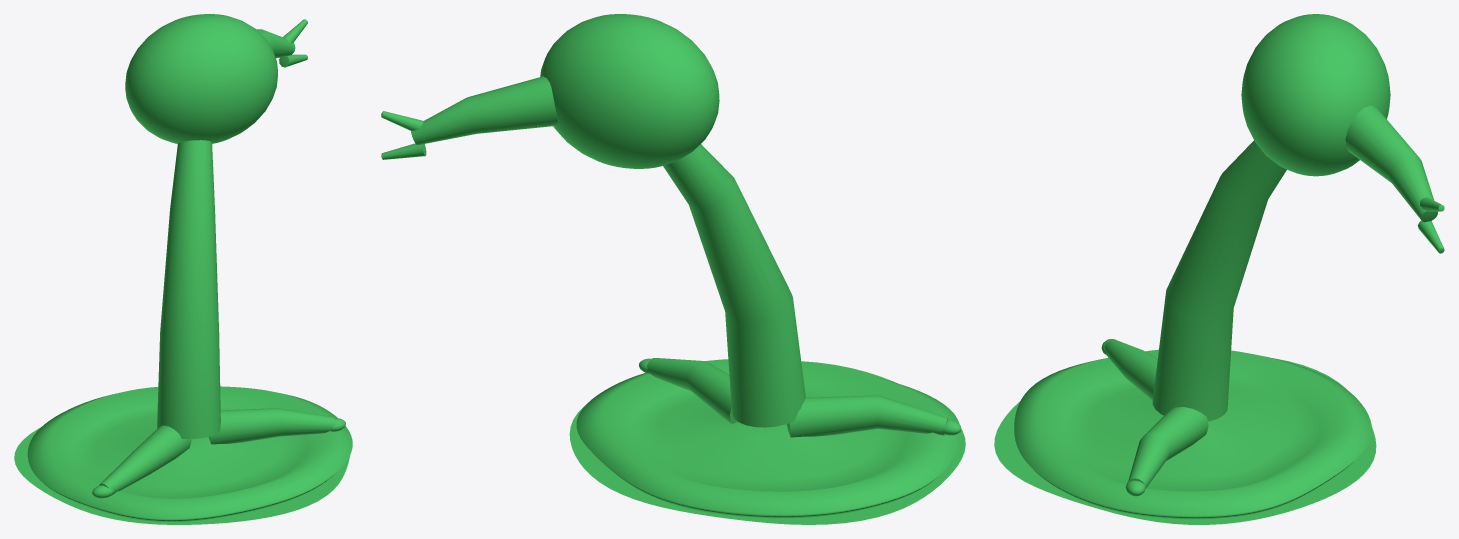
The model's file is ranged_growth.glb.
3 renders of one model, left to right at view 1: azimuth 30°, elevation 25°; view 2: azimuth 150°, elevation 25°; view 3: azimuth 270°, elevation 25°, orthographic. The views are drawn at different scales.
Visible parts, largest first — view 1: ranged_growth; view 2: ranged_growth; view 3: ranged_growth.
Part boxes in pixels (bbox=[...]): ranged_growth: bbox=[14, 14, 352, 524]; ranged_growth: bbox=[381, 14, 965, 524]; ranged_growth: bbox=[994, 14, 1444, 524].
Size of the model in its own units: 1.68 by 1.66 by 1.5.
